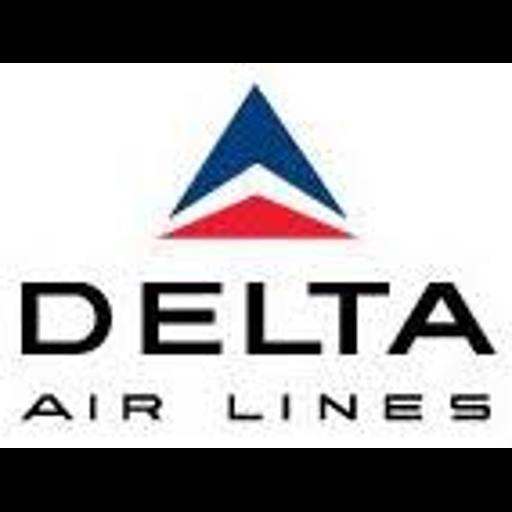Delta Air Lines: (0, 63, 512, 448)
